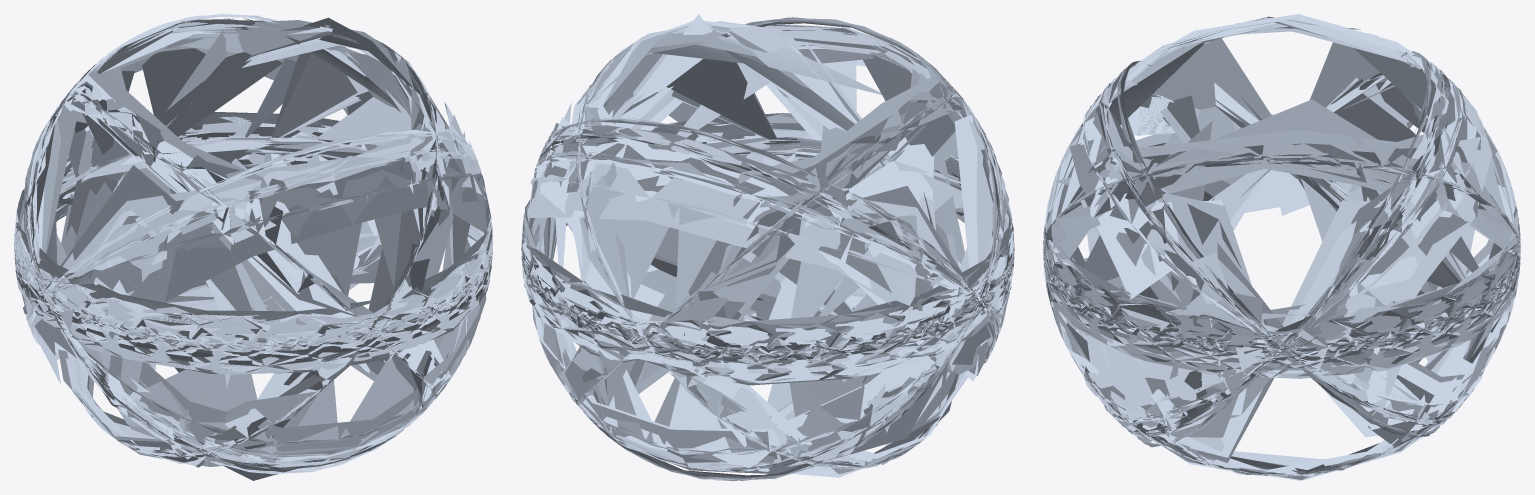
3 views of the same model, side by side, from view 1: azimuth 30°, elevation 25°; view 2: azimuth 150°, elevation 25°; view 3: azimuth 270°, elevation 25° (orthographic). The views are drawn at different scales.
Parts seen in each view (by area): view 1: 6A-6A-structural; view 2: 6A-6A-structural; view 3: 6A-6A-structural.
Part boxes in pixels (bbox=[...]): 6A-6A-structural: bbox=[14, 14, 492, 480]; 6A-6A-structural: bbox=[521, 14, 1014, 480]; 6A-6A-structural: bbox=[1043, 14, 1520, 480].
Bounding box in the file's own units: 2 × 1.73 × 2.
